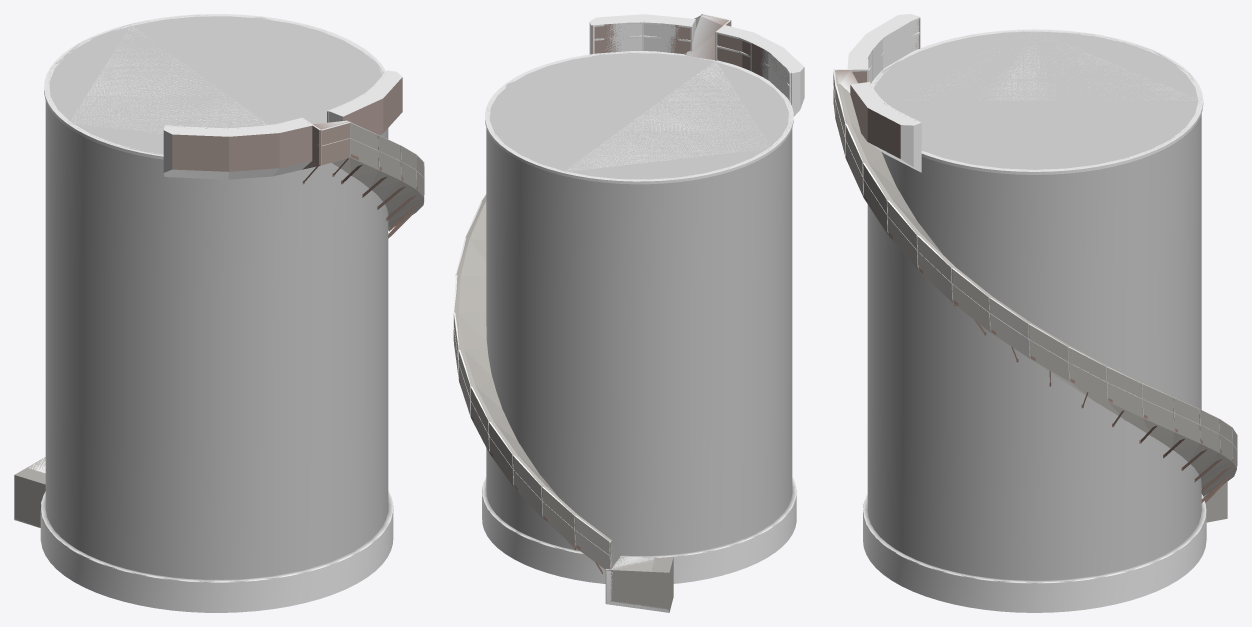
File: s_oil_ref_tank_sml.dae
The picture shows the model from 3 angles, left to right: view 1: azimuth 30°, elevation 25°; view 2: azimuth 150°, elevation 25°; view 3: azimuth 270°, elevation 25°; orthographic projection. The views are drawn at different scales.
Visible parts, largest first — view 1: s_oil_ref_mockup_tank_L2000, s_oil_ref_mockup_tank_L250, Colmesh_s_oil_ref_tank_sml-1, s_oil_ref_mockup_tank_L120, s_oil_ref_mockup_tank_L40, s_oil_ref_mockup_tank_L500; view 2: s_oil_ref_mockup_tank_L2000, s_oil_ref_mockup_tank_L250, Colmesh_s_oil_ref_tank_sml-1, s_oil_ref_mockup_tank_L120, s_oil_ref_mockup_tank_L40, s_oil_ref_mockup_tank_L500; view 3: s_oil_ref_mockup_tank_L2000, s_oil_ref_mockup_tank_L250, Colmesh_s_oil_ref_tank_sml-1, s_oil_ref_mockup_tank_L120, s_oil_ref_mockup_tank_L500, s_oil_ref_mockup_tank_L40.
Boxes of the visible parts, <box> form: s_oil_ref_mockup_tank_L2000: <box>15,14,424,612</box>; s_oil_ref_mockup_tank_L250: <box>14,14,384,580</box>; Colmesh_s_oil_ref_tank_sml-1: <box>26,14,423,580</box>; s_oil_ref_mockup_tank_L120: <box>56,17,370,152</box>; s_oil_ref_mockup_tank_L40: <box>70,26,267,133</box>; s_oil_ref_mockup_tank_L500: <box>41,14,420,582</box>; s_oil_ref_mockup_tank_L2000: <box>453,14,796,612</box>; s_oil_ref_mockup_tank_L250: <box>487,52,791,612</box>; Colmesh_s_oil_ref_tank_sml-1: <box>454,14,804,598</box>; s_oil_ref_mockup_tank_L120: <box>491,54,784,177</box>; s_oil_ref_mockup_tank_L40: <box>568,62,766,170</box>; s_oil_ref_mockup_tank_L500: <box>482,14,795,612</box>; s_oil_ref_mockup_tank_L2000: <box>833,17,1237,612</box>; s_oil_ref_mockup_tank_L250: <box>863,30,1201,581</box>; Colmesh_s_oil_ref_tank_sml-1: <box>833,14,1236,582</box>; s_oil_ref_mockup_tank_L120: <box>888,32,1200,170</box>; s_oil_ref_mockup_tank_L500: <box>863,20,1231,583</box>; s_oil_ref_mockup_tank_L40: <box>913,32,1199,100</box>.
Bounding box in the file's own units: 11.22 × 12.11 × 16.02.
